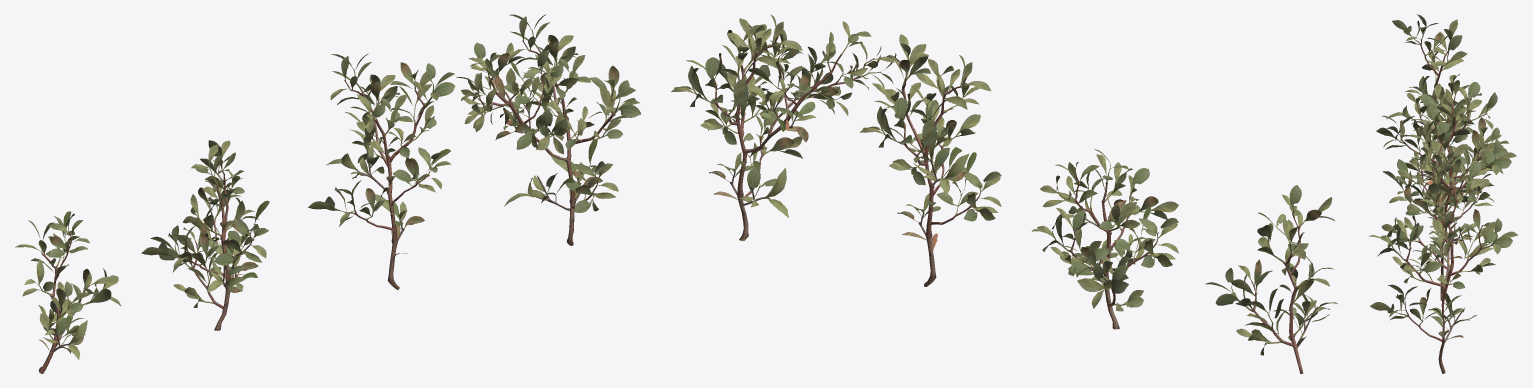
Rendered from shrub_04.glb.
3 views of the same model, side by side, from view 1: azimuth 30°, elevation 25°; view 2: azimuth 150°, elevation 25°; view 3: azimuth 270°, elevation 25° (orthographic). The views are drawn at different scales.
Parts seen in each view (by area): view 1: shrub_04; view 2: shrub_04; view 3: shrub_04.
Boxes of the visible parts, bbox=[...] form: shrub_04: bbox=[15, 14, 640, 373]; shrub_04: bbox=[671, 14, 1338, 373]; shrub_04: bbox=[1369, 14, 1518, 373].
Size of the model in its own units: 0.5837 by 0.2192 by 0.1461.
Materials: 1 (1 with a texture image).
